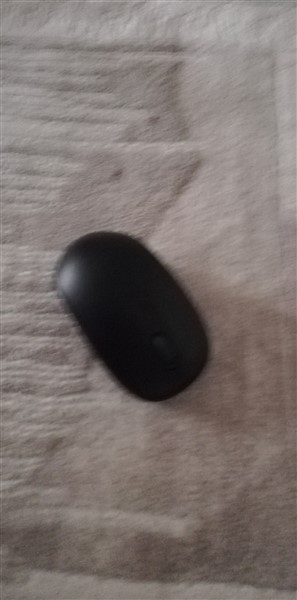mouse: (47, 222, 218, 409)
